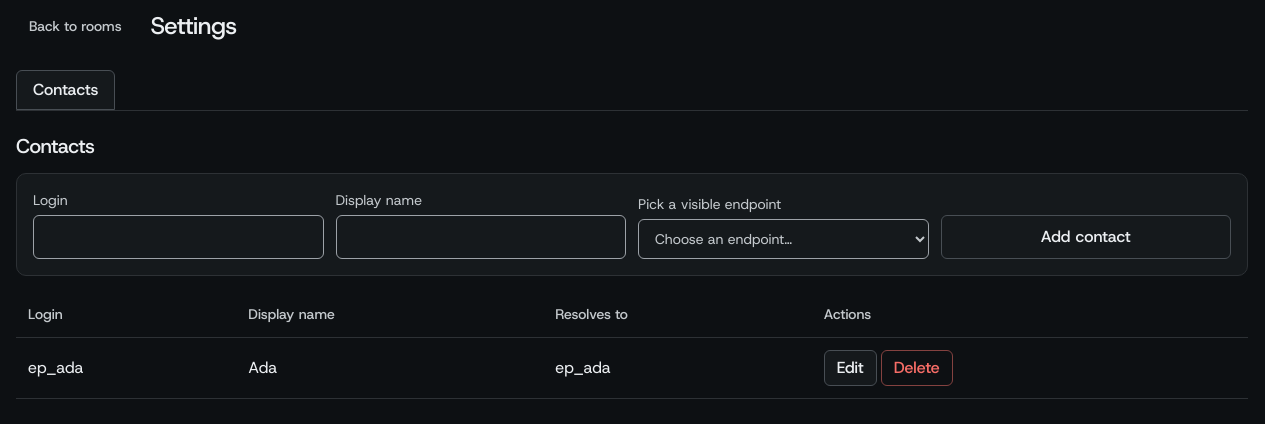
SettingsPage contacts › updates a display name inline
Click the button "Edit".
click(850, 368)  # box x1=824 y1=350 x2=877 y2=386
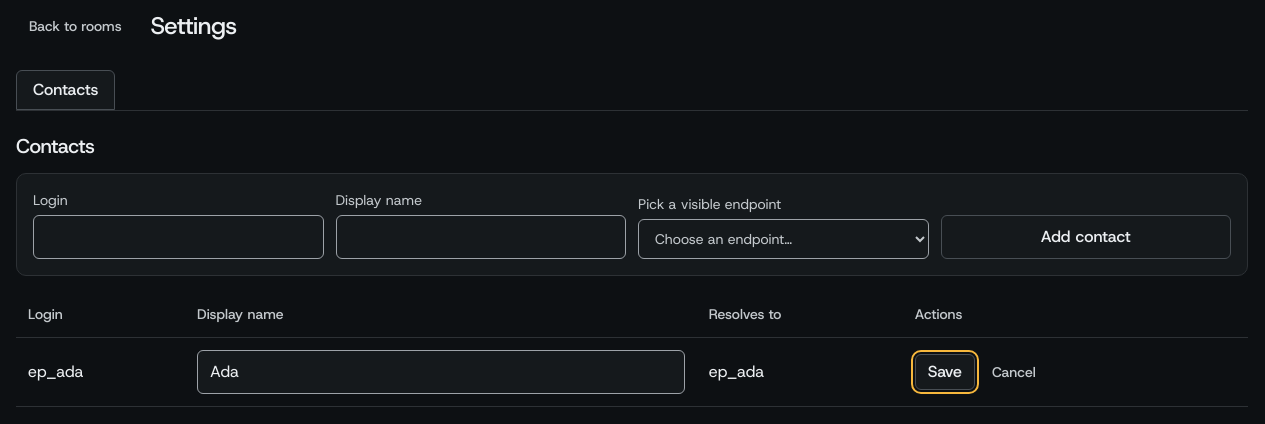
Replace the text in the field named "Edit display name for ep_ada" with "Ada Lovelace" at (441, 372), box x1=197 y1=350 x2=685 y2=394
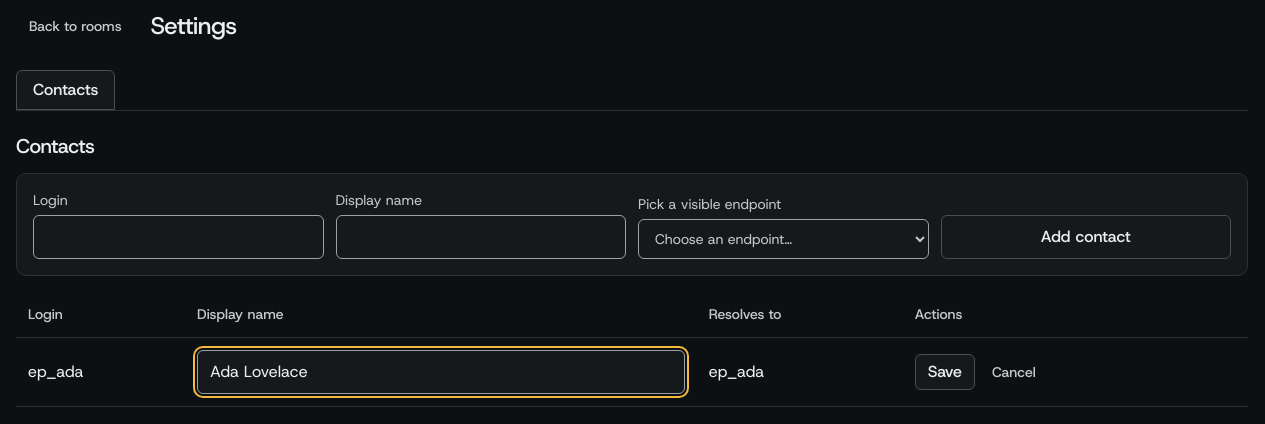
Click the button "Save".
click(945, 372)  # box x1=915 y1=354 x2=975 y2=390
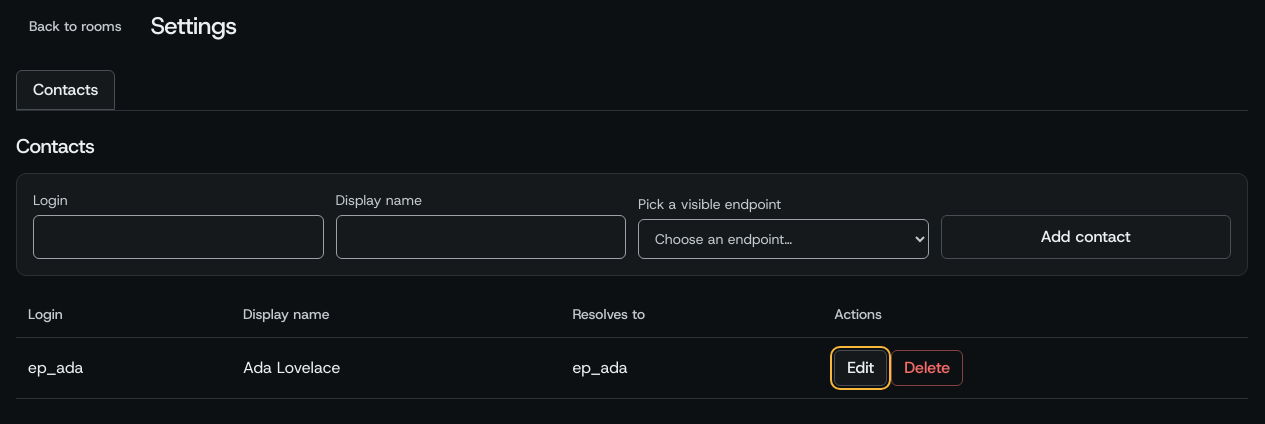
Check: the text "Ada Lovelace" is shown, box x1=231 y1=338 x2=560 y2=398
